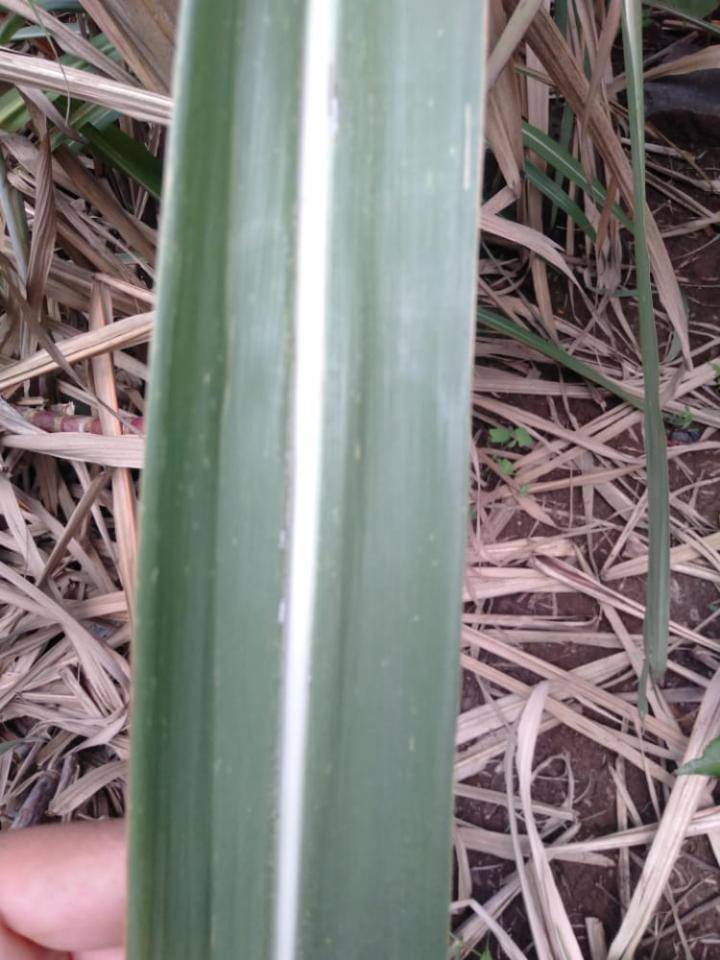Healthy: (128, 0, 485, 959)
